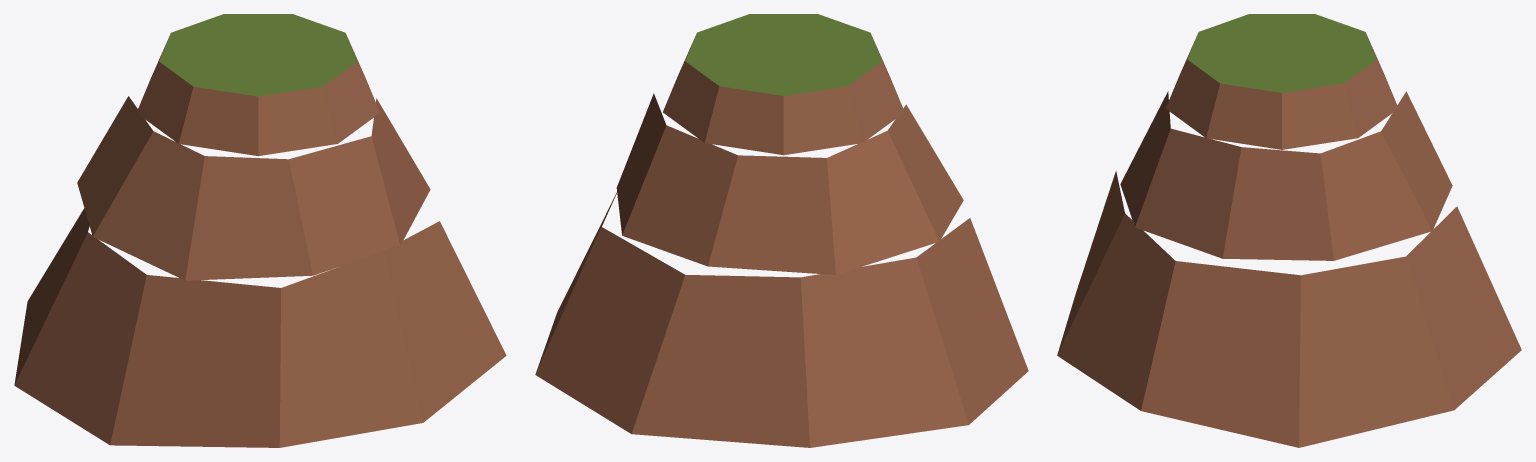
The model's file is peak.glb.
The picture shows the model from 3 angles, left to right: view 1: azimuth 30°, elevation 25°; view 2: azimuth 150°, elevation 25°; view 3: azimuth 270°, elevation 25°; orthographic projection. The views are drawn at different scales.
Visible parts, largest first — view 1: Low, Mid, Top; view 2: Low, Mid, Top; view 3: Low, Mid, Top.
Part boxes in pixels (x1,y1,x2,y2): Low: [14, 208, 506, 447]; Mid: [77, 96, 430, 280]; Top: [136, 14, 379, 156]; Low: [535, 192, 1028, 447]; Mid: [616, 93, 963, 274]; Top: [663, 14, 904, 155]; Low: [1057, 171, 1521, 447]; Mid: [1120, 91, 1452, 260]; Top: [1165, 14, 1398, 149].
Size of the model in its own units: 10.94 by 7.39 by 10.61.
